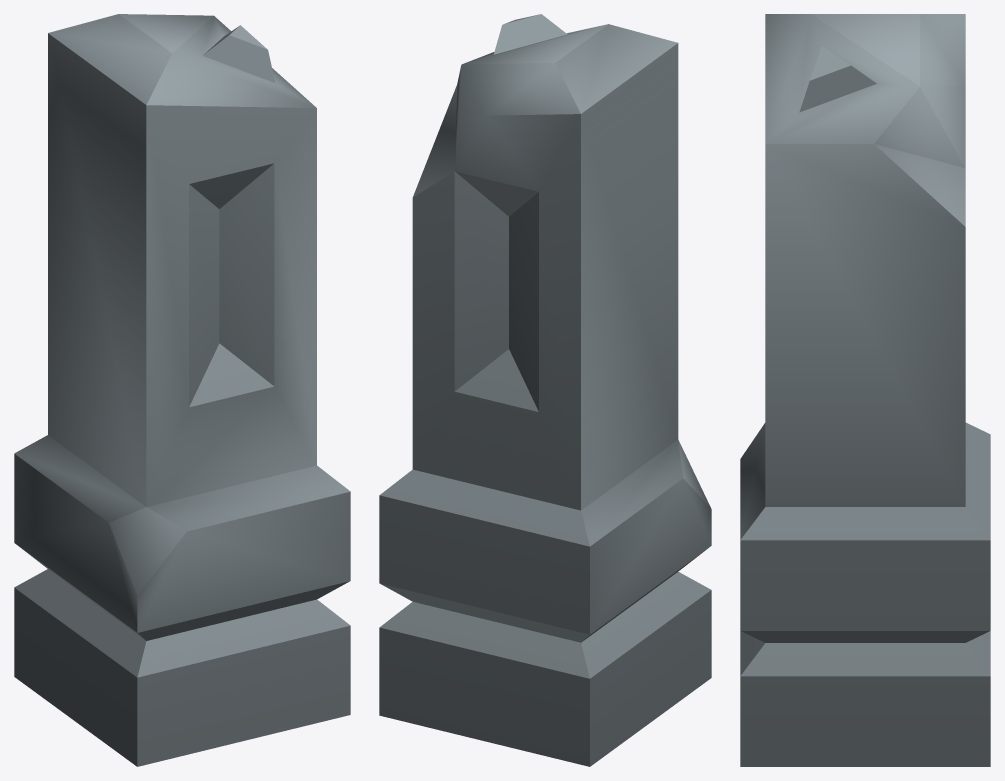
Rendered from fence_pillar_broken.obj.
3 views of the same model, side by side, from view 1: azimuth 30°, elevation 25°; view 2: azimuth 150°, elevation 25°; view 3: azimuth 270°, elevation 25° (orthographic). The views are drawn at different scales.
Parts seen in each view (by area): view 1: fence_pillar_broken_Cube.020; view 2: fence_pillar_broken_Cube.020; view 3: fence_pillar_broken_Cube.020.
Part boxes in pixels (box(x1,y1,x2,y2)): fence_pillar_broken_Cube.020: box(14, 14, 350, 766); fence_pillar_broken_Cube.020: box(379, 14, 711, 766); fence_pillar_broken_Cube.020: box(740, 14, 990, 766).
Bounding box in the file's own units: 0.5 × 1.5 × 0.5.
Materials: 1 (1 with a texture image).
